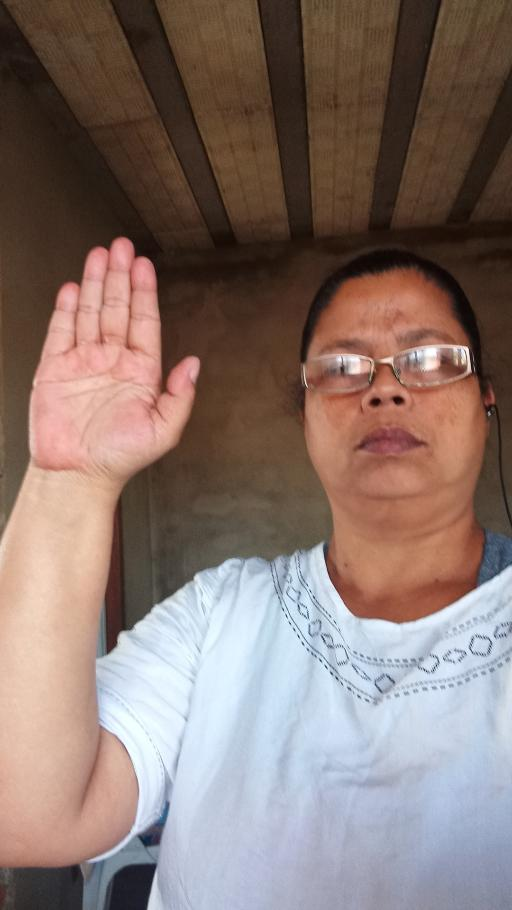stop: (23, 232, 203, 484)
